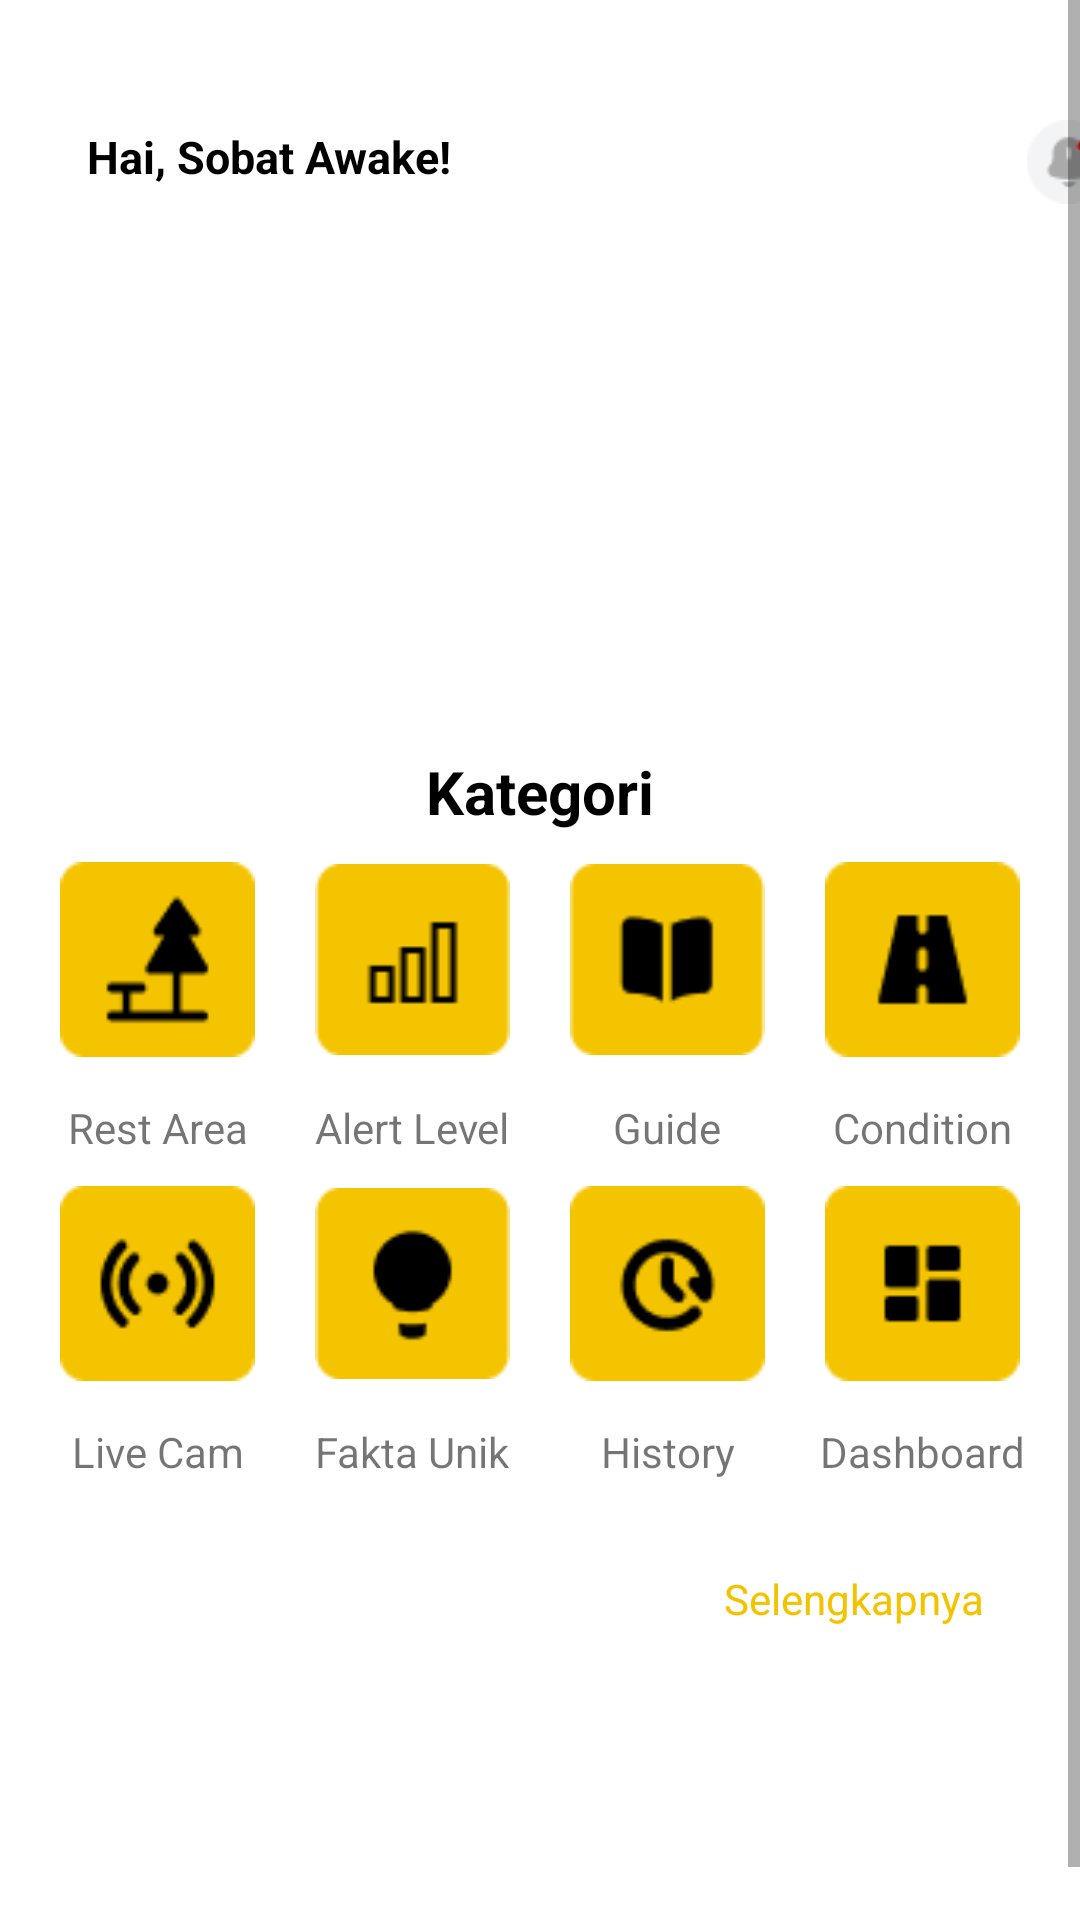

Icon click points for this 1080w x 1920h phone screenshot, format point (x, y):
street: point (922, 959)
